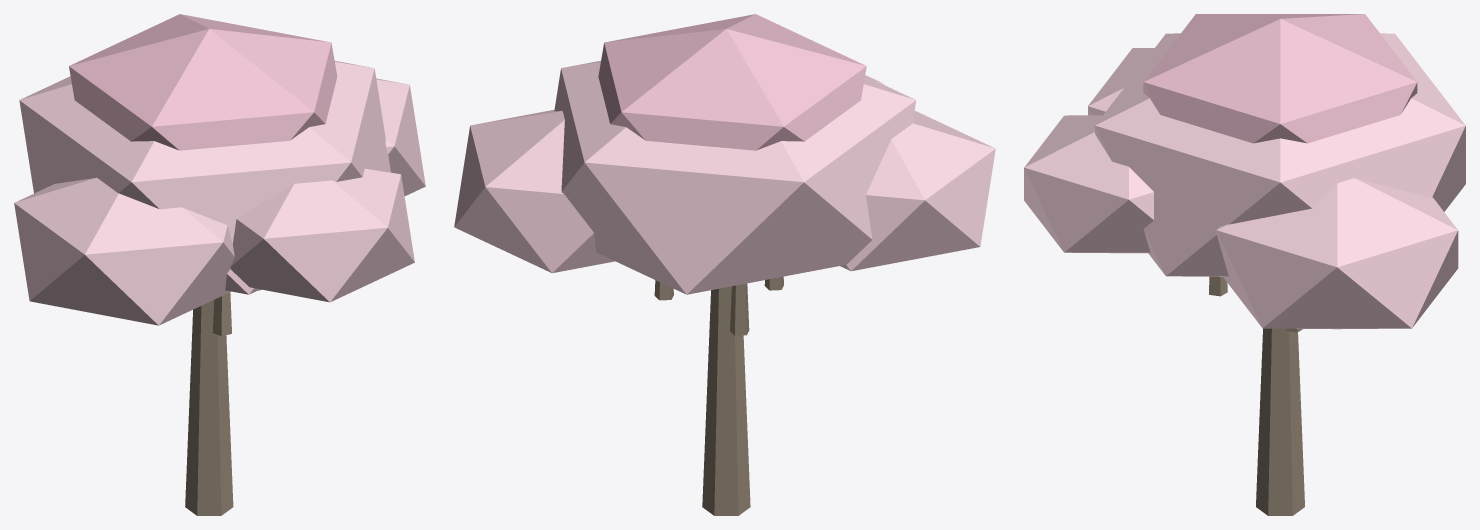
Rendered from veg-tree-cherry.glb.
3 renders of one model, left to right at view 1: azimuth 30°, elevation 25°; view 2: azimuth 150°, elevation 25°; view 3: azimuth 270°, elevation 25°, orthographic. The views are drawn at different scales.
Visible parts, largest first — view 1: canopy, canopy-top, trunk; view 2: canopy, canopy-top, trunk; view 3: canopy, canopy-top, trunk.
Part boxes in pixels (x1=…): canopy: x1=14, y1=61, x2=425, y2=325; canopy-top: x1=69, y1=14, x2=337, y2=150; trunk: x1=185, y1=289, x2=261, y2=515; canopy: x1=454, y1=60, x2=995, y2=294; canopy-top: x1=598, y1=14, x2=866, y2=150; trunk: x1=654, y1=276, x2=783, y2=515; canopy: x1=1024, y1=33, x2=1465, y2=329; canopy-top: x1=1143, y1=14, x2=1417, y2=143; trunk: x1=1209, y1=276, x2=1304, y2=515.
Size of the model in its own units: 5.54 by 5.68 by 4.66.
